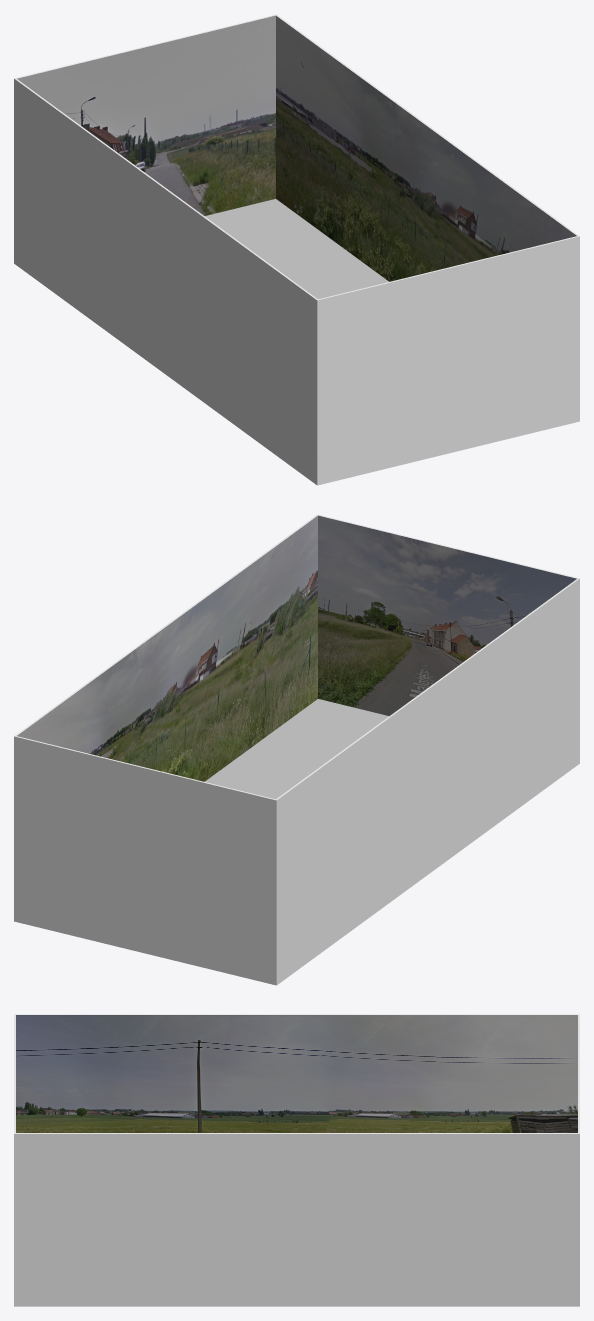
The model's file is GE_drone_zone.dae.
3 views of the same model, one above another, from view 1: azimuth 30°, elevation 25°; view 2: azimuth 150°, elevation 25°; view 3: azimuth 270°, elevation 25° (orthographic). The views are drawn at different scales.
Visible parts, largest first — view 1: SketchUp (×4); view 2: SketchUp (×4); view 3: SketchUp (×2).
Boxes of the visible parts, bbox=[...] form: SketchUp (×4): bbox=[14, 14, 579, 485]; SketchUp (×4): bbox=[14, 514, 579, 985]; SketchUp (×2): bbox=[14, 1014, 579, 1306].
Bounding box in the file's own units: 591 × 1181 × 398.
